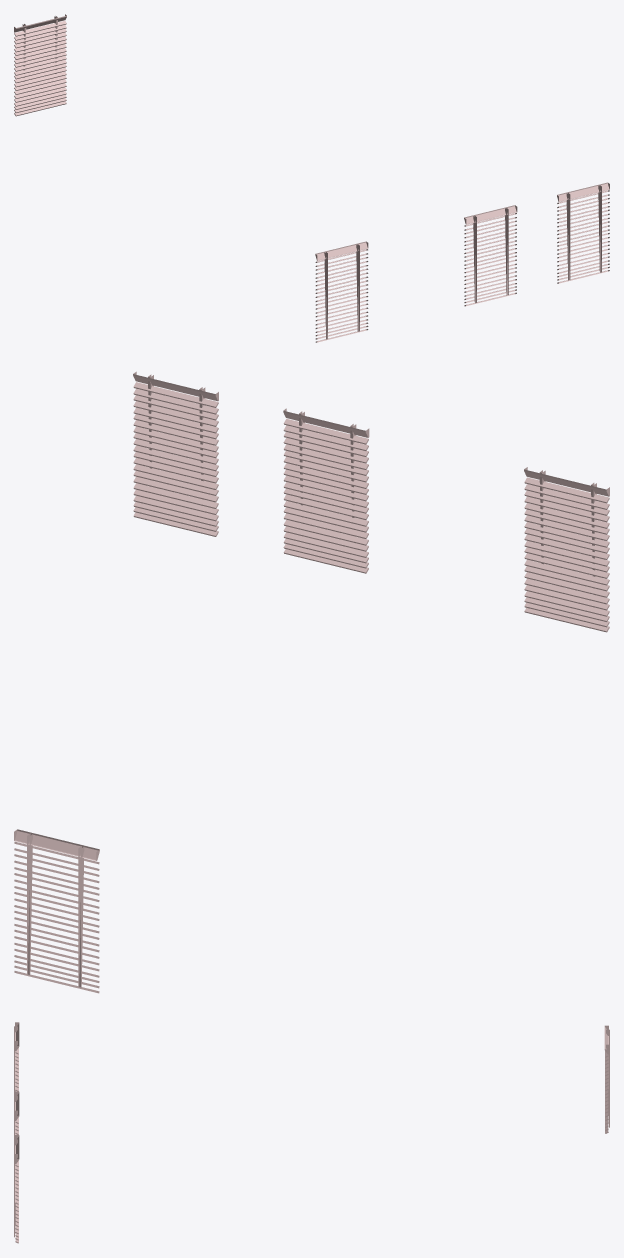
File: window.fbx
3 renders of one model, top to bottom at view 1: azimuth 30°, elevation 25°; view 2: azimuth 150°, elevation 25°; view 3: azimuth 270°, elevation 25°, orthographic. The views are drawn at different scales.
Visible parts, largest first — view 1: window; view 2: window; view 3: window.
Part boxes in pixels (box(x1,y1,x2,y2)): window: box(14, 14, 609, 342); window: box(14, 371, 609, 993); window: box(14, 1022, 609, 1243).
Size of the model in its own units: 1180 by 342 by 2176.
